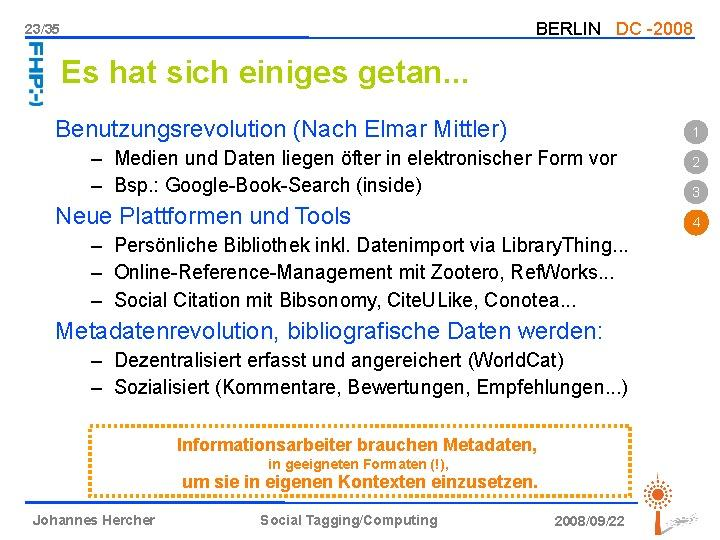paragraph: (42, 108, 681, 501)
subtitle: (26, 506, 642, 534)
title: (54, 51, 480, 98)
